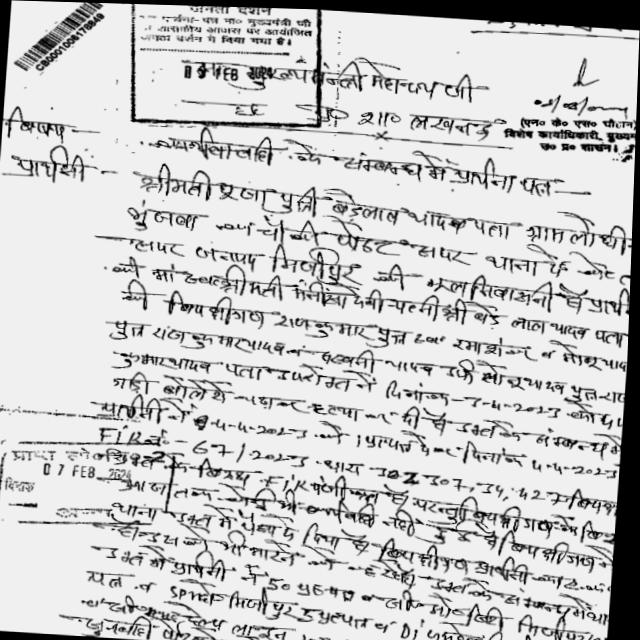antritgovtstamp: (0, 426, 192, 544)
barcode: (5, 0, 110, 85)
jantadarsan: (119, 4, 336, 138)
signnamestamp: (497, 43, 639, 163)
